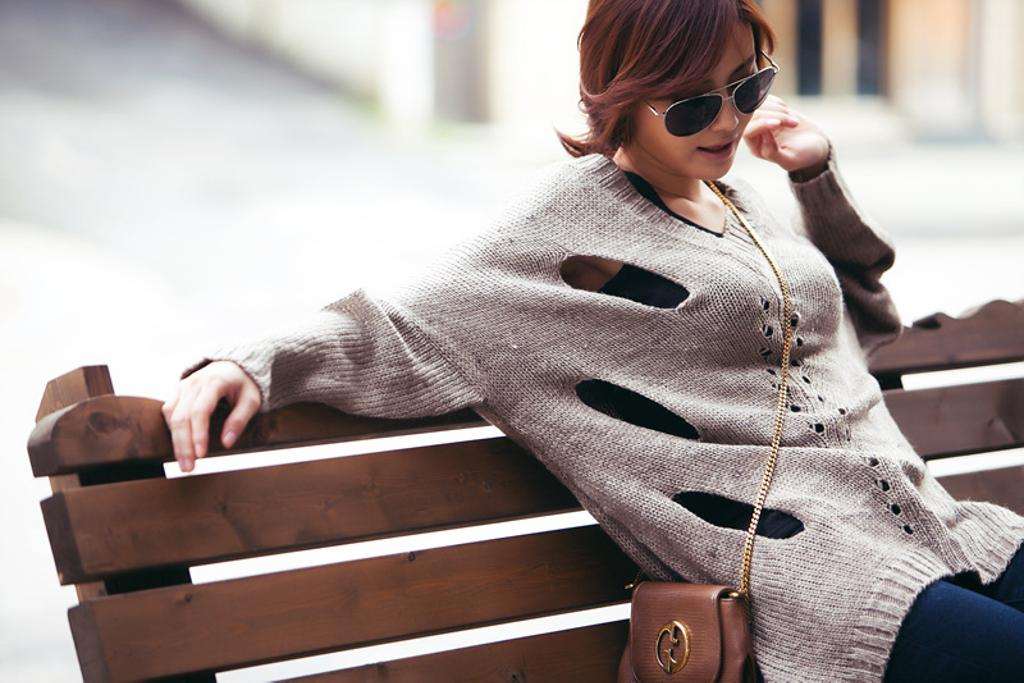face: (630, 26, 756, 176)
